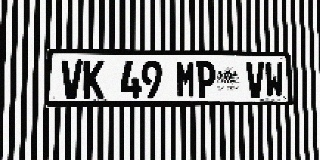4: (121, 60, 141, 99)
9: (142, 60, 162, 99)
K: (83, 60, 104, 99)
M: (176, 61, 196, 98)
P: (196, 61, 216, 98)
V: (61, 60, 83, 99), (246, 61, 265, 98)
W: (265, 62, 284, 98)
